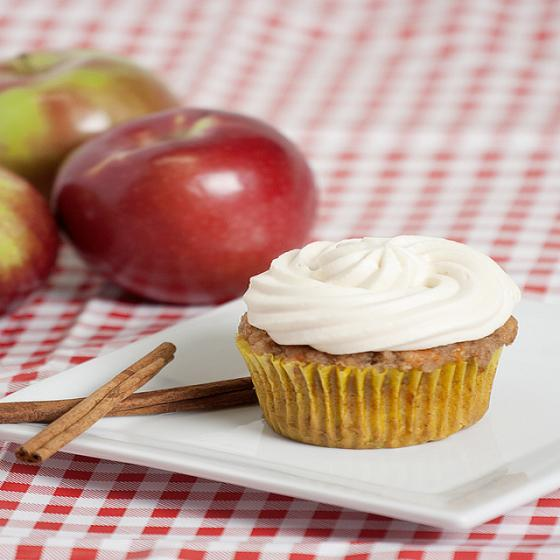apple: (0, 49, 316, 319)
cake: (238, 235, 520, 447)
dining table: (2, 0, 560, 550)
